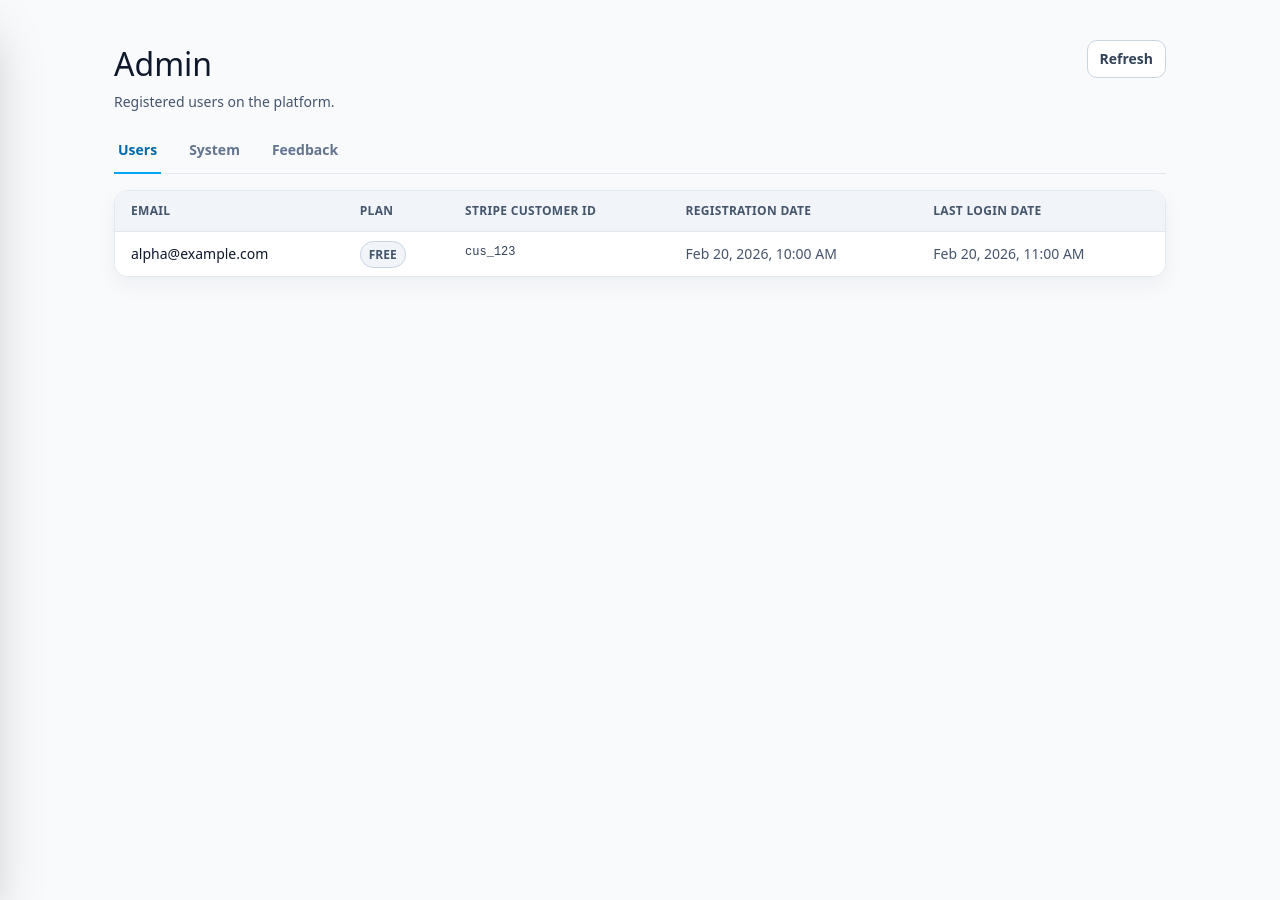
Test: AdminPage drawer actions › shows empty feedback state when there are no rows
Expected: the button with aria-label "Open user details for alpha@example.com" is shown, [115, 232, 1165, 276]
What coordinates should you click on to do the following:
click the button "Feedback"
I would click on:
 (305, 155)
Its box is [268, 136, 342, 174].
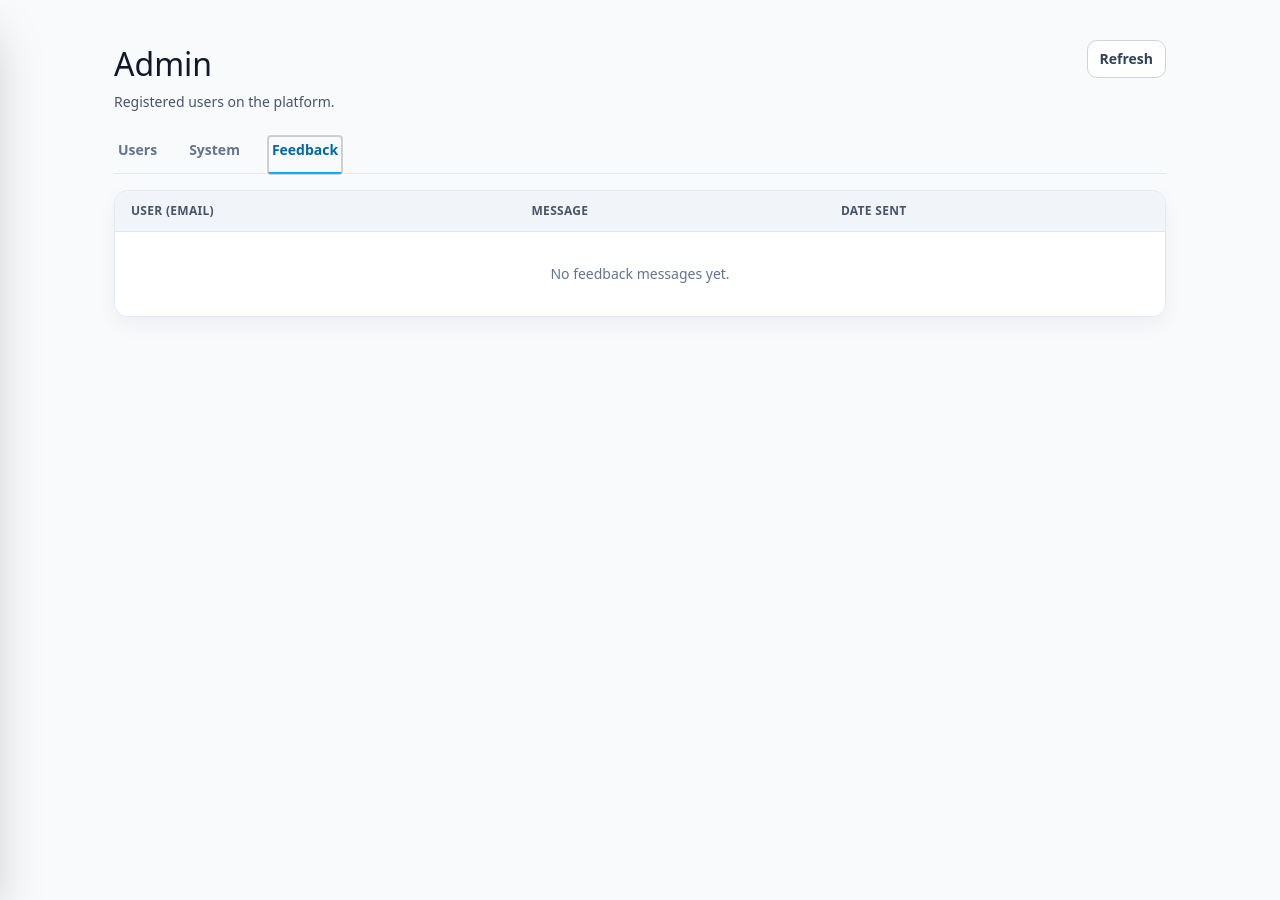
Result: the text "No feedback messages yet." is shown at [115, 232, 1165, 316]
